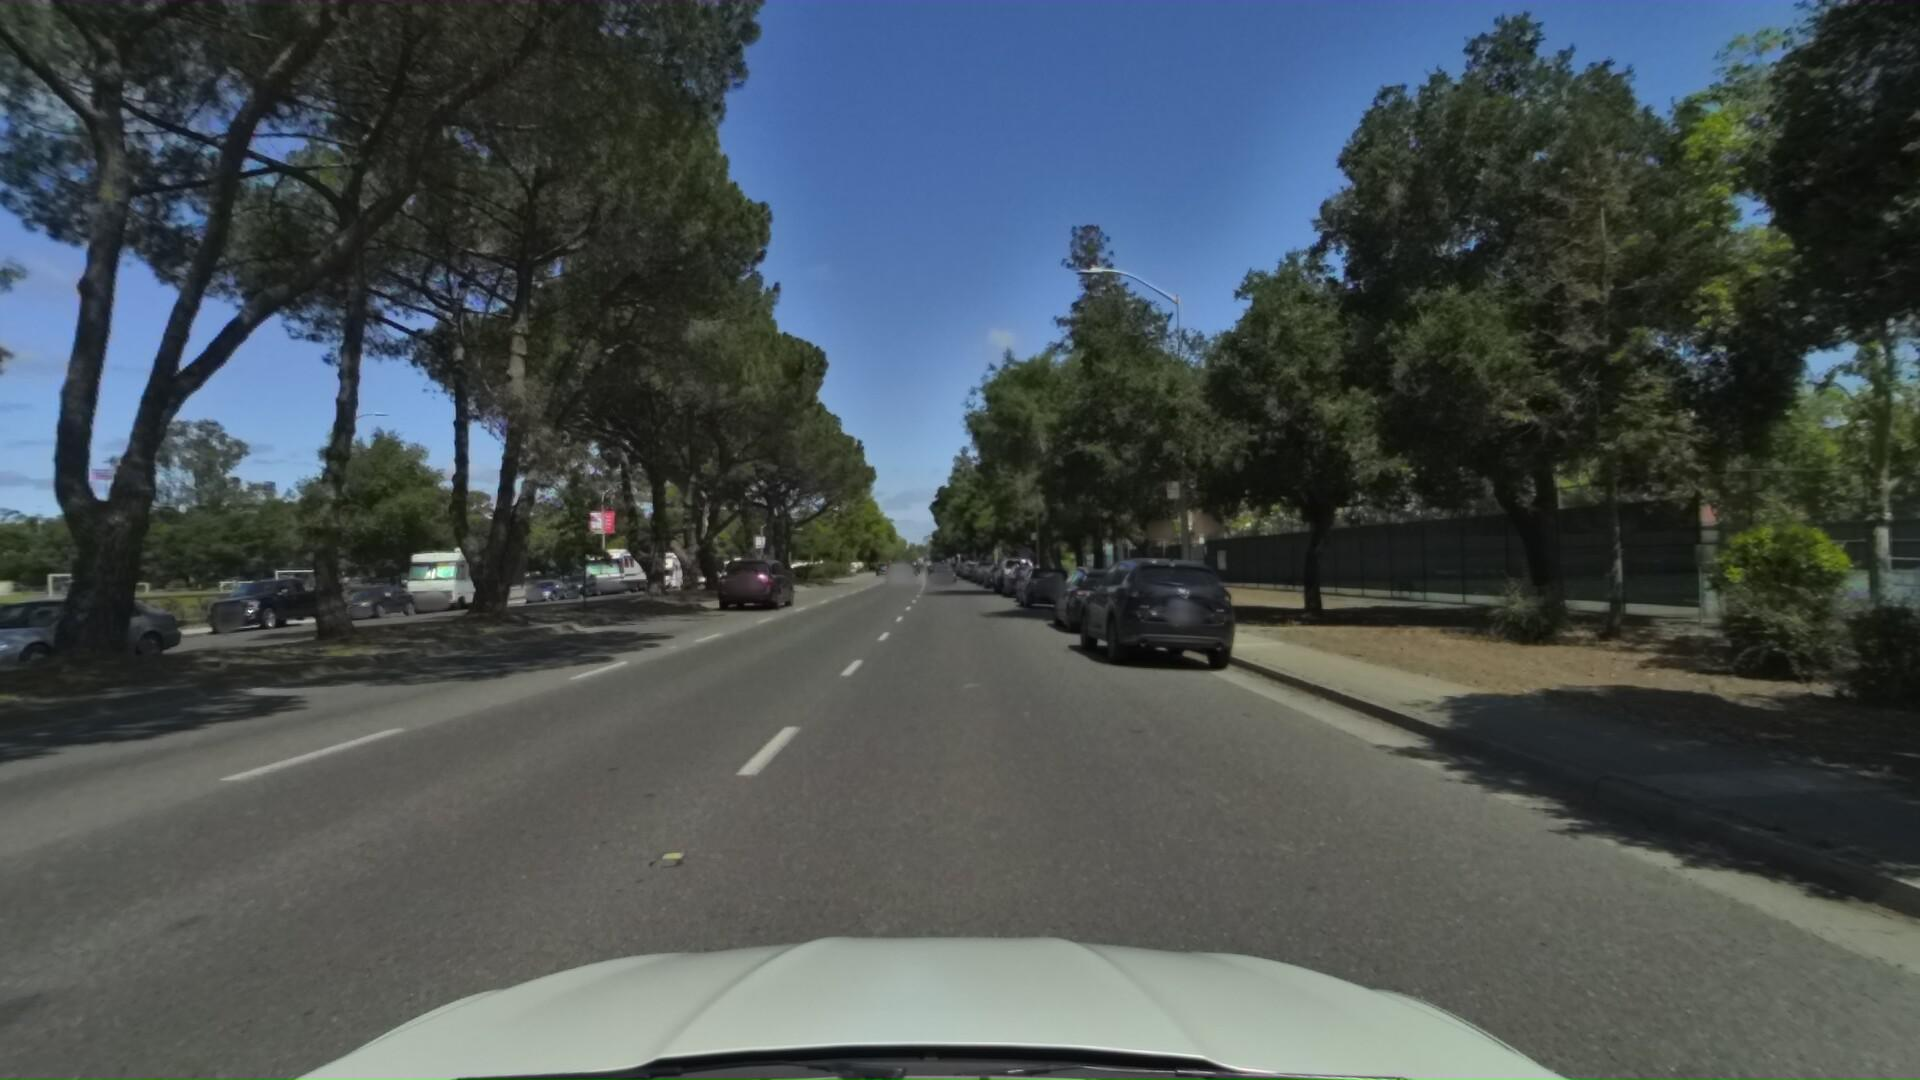car: (1073, 545, 1240, 673), (183, 570, 340, 629), (1047, 555, 1156, 634), (713, 551, 796, 616), (322, 575, 419, 620), (1015, 558, 1077, 605), (1011, 556, 1067, 600), (992, 546, 1038, 589), (1001, 553, 1044, 592), (555, 560, 603, 593), (518, 571, 570, 597), (982, 554, 1015, 584), (969, 550, 1000, 576), (931, 559, 957, 585), (975, 556, 1004, 578), (884, 559, 909, 582)
other_vehicle: (392, 535, 529, 609), (578, 538, 649, 589)
